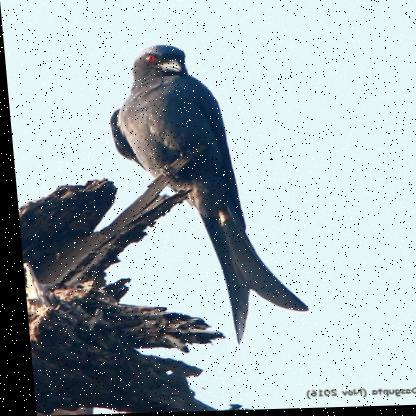Burung: (102, 42, 313, 347)
